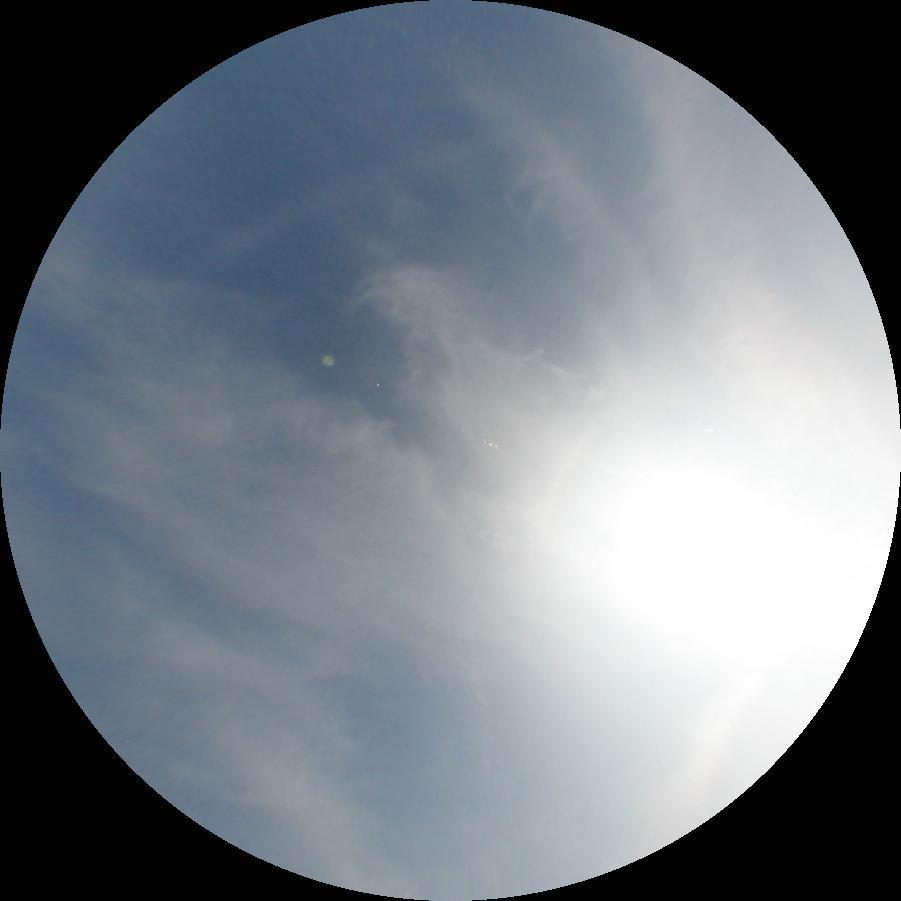contrail veryold: (626, 667, 745, 849), (210, 158, 384, 263)
sun: (627, 456, 859, 659)
